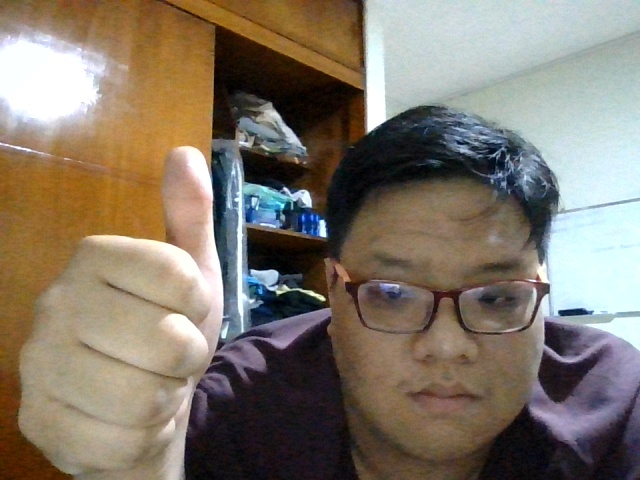si: (11, 142, 222, 471)
